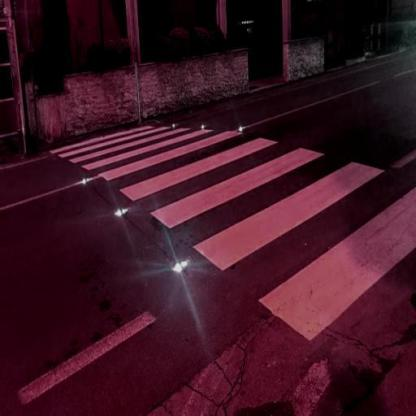crosswalk: (102, 132, 338, 230)
